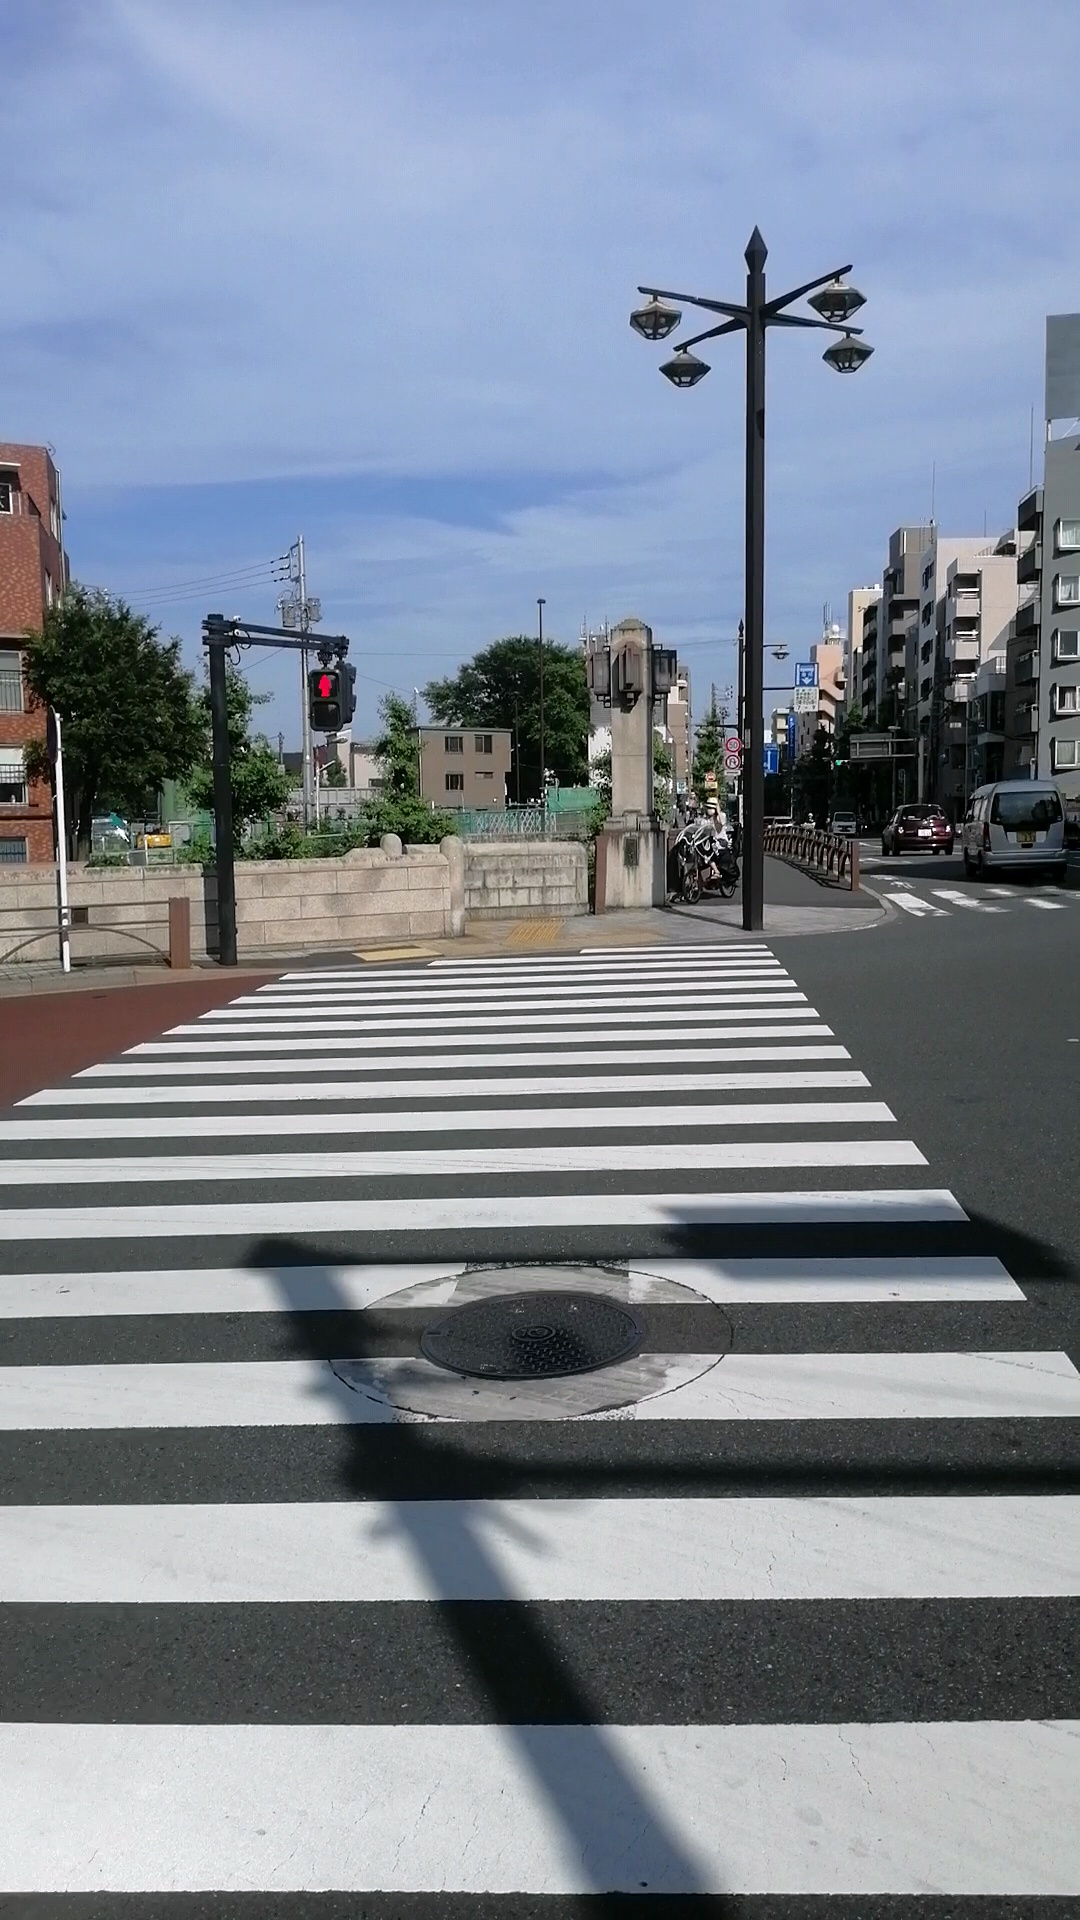red: (307, 669, 345, 732)
